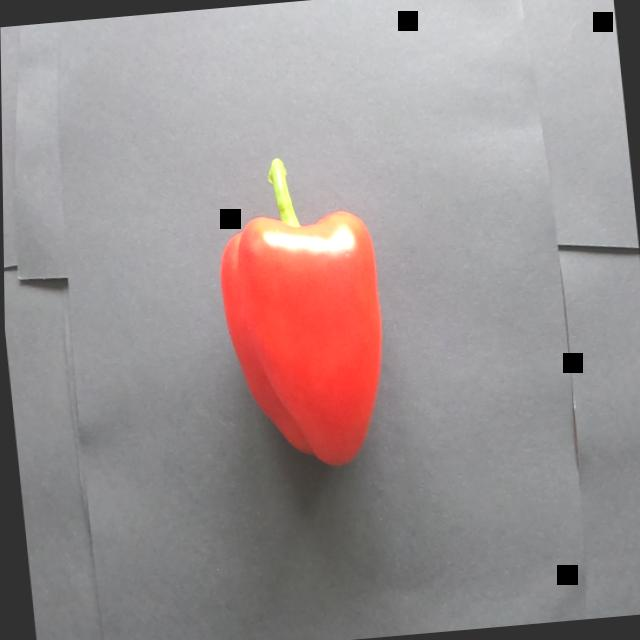Redpepper: (178, 102, 434, 513)
